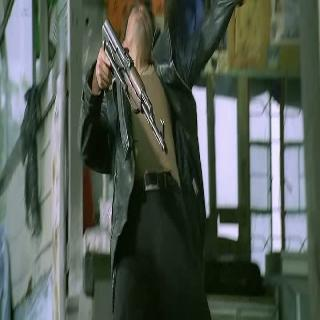gun: (94, 14, 168, 170)
